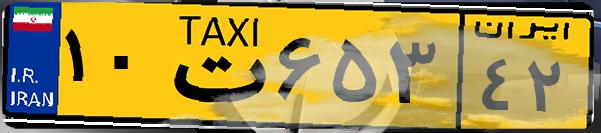0: (110, 28, 158, 98)
1: (57, 26, 110, 100)
2: (525, 38, 570, 115)
3: (385, 28, 445, 110)
4: (475, 38, 525, 113)
5: (330, 28, 385, 110)
6: (270, 28, 330, 110)
ت: (158, 12, 270, 120)
